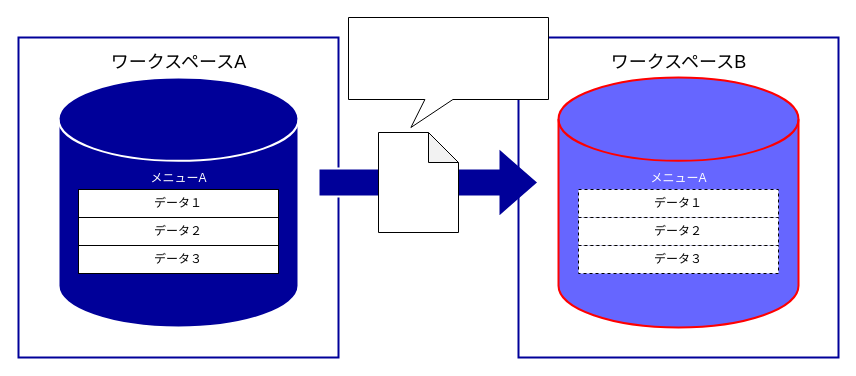
The diagram is 856 pixels wide and 376 high, and some of its shapes have lost their labels. Here are the shapes that lost their labels. From the top down, the box of each, then its label:
(348, 16, 548, 128): メニューAのデータすべてが エクスポートされます。
(378, 132, 458, 232): Kym ファイル
